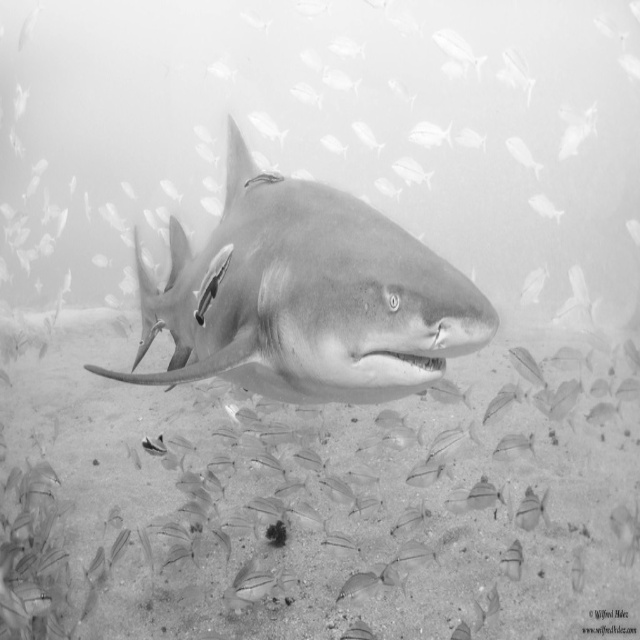Shark: (84, 110, 500, 404)
